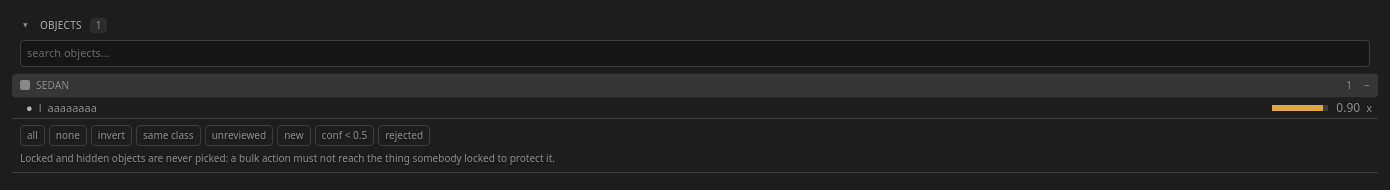
Test: search and grouping › collapsing a class group hides its rows and keeps the header
Click the button "sedan 1 −". click: (53, 84)
box: [12,72,1378,98]
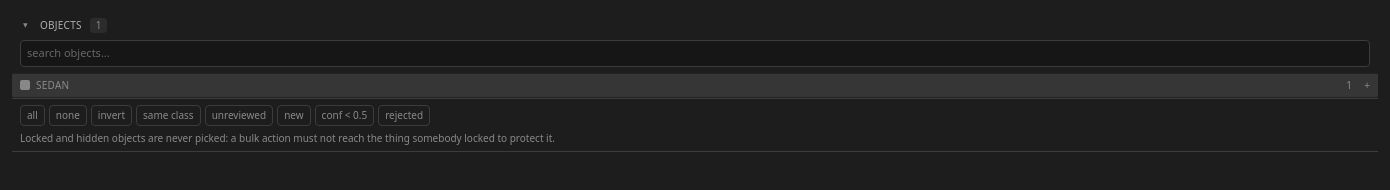
expect the text "aaaaaaaa" is gone: met
Click the button "sedan 1 +". click: (53, 84)
box: [12,72,1378,98]
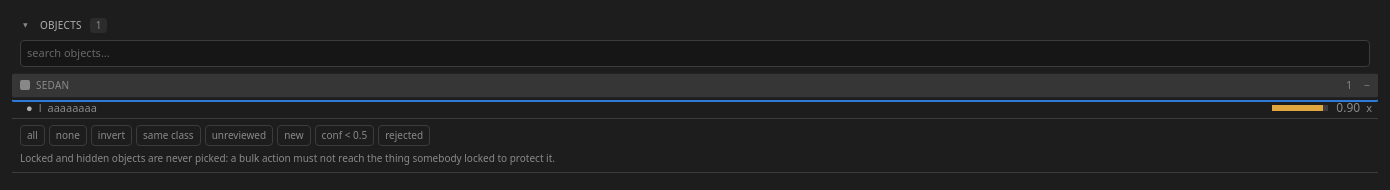
expect the text "aaaaaaaa" is shown: met, box [48,100,97,114]
